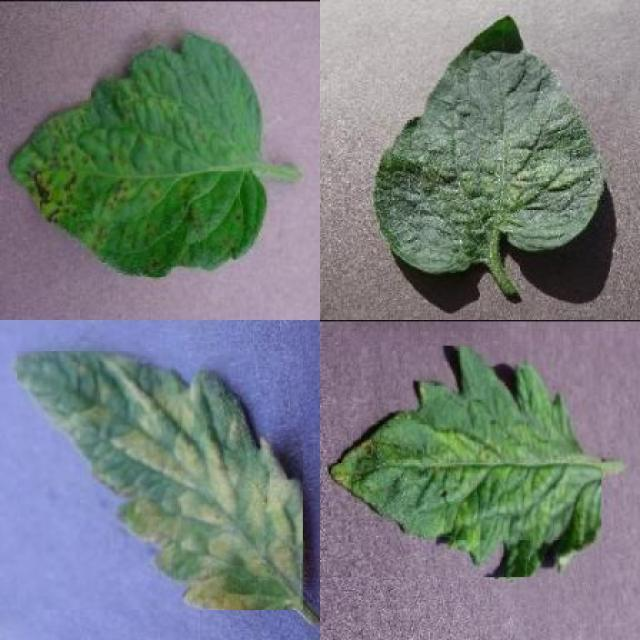Leaf Mold: (17, 350, 303, 610)
Mosaic Virus: (327, 346, 602, 578)
Septoria: (7, 30, 267, 277)
Spider Mites: (373, 14, 606, 275)
